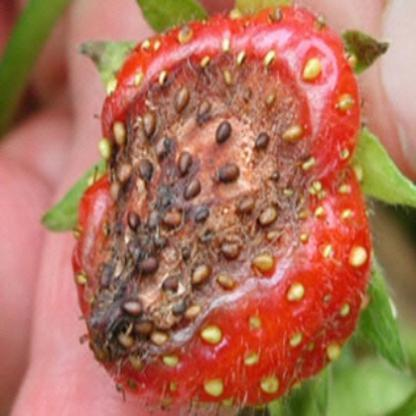Strawberry_Anthracnose_Fruit_Rot: (71, 37, 352, 400)
